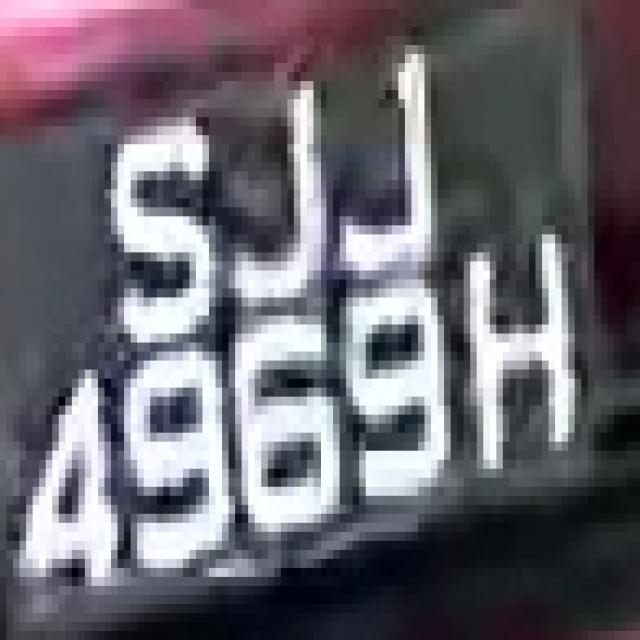4: (13, 352, 124, 622)
6: (222, 297, 346, 541)
9: (118, 324, 235, 577), (339, 288, 464, 514)
H: (451, 234, 581, 496)
J: (190, 45, 314, 316), (320, 45, 451, 289)
S: (91, 126, 216, 370)
